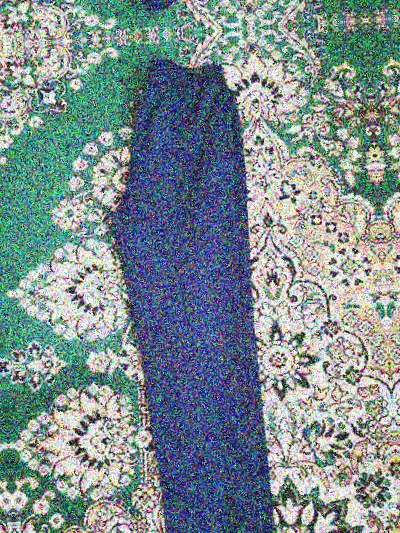Pants: (79, 48, 302, 533), (41, 0, 264, 19)
